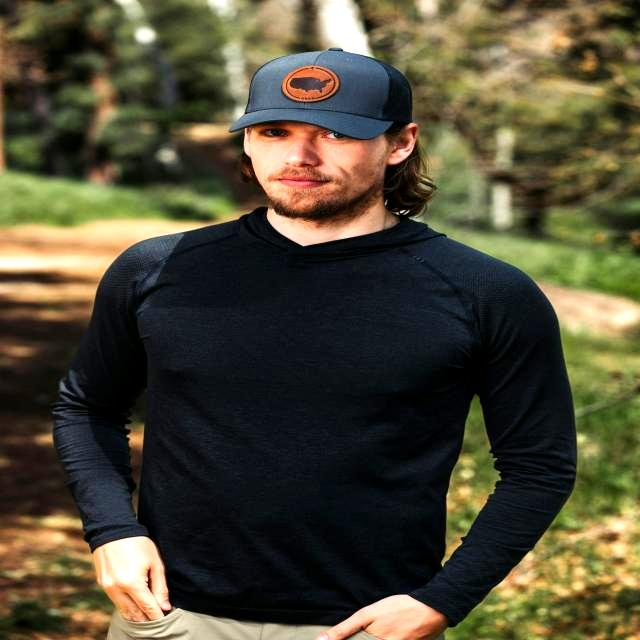no_hard_hat: (229, 48, 412, 140)
person: (54, 49, 576, 640)
